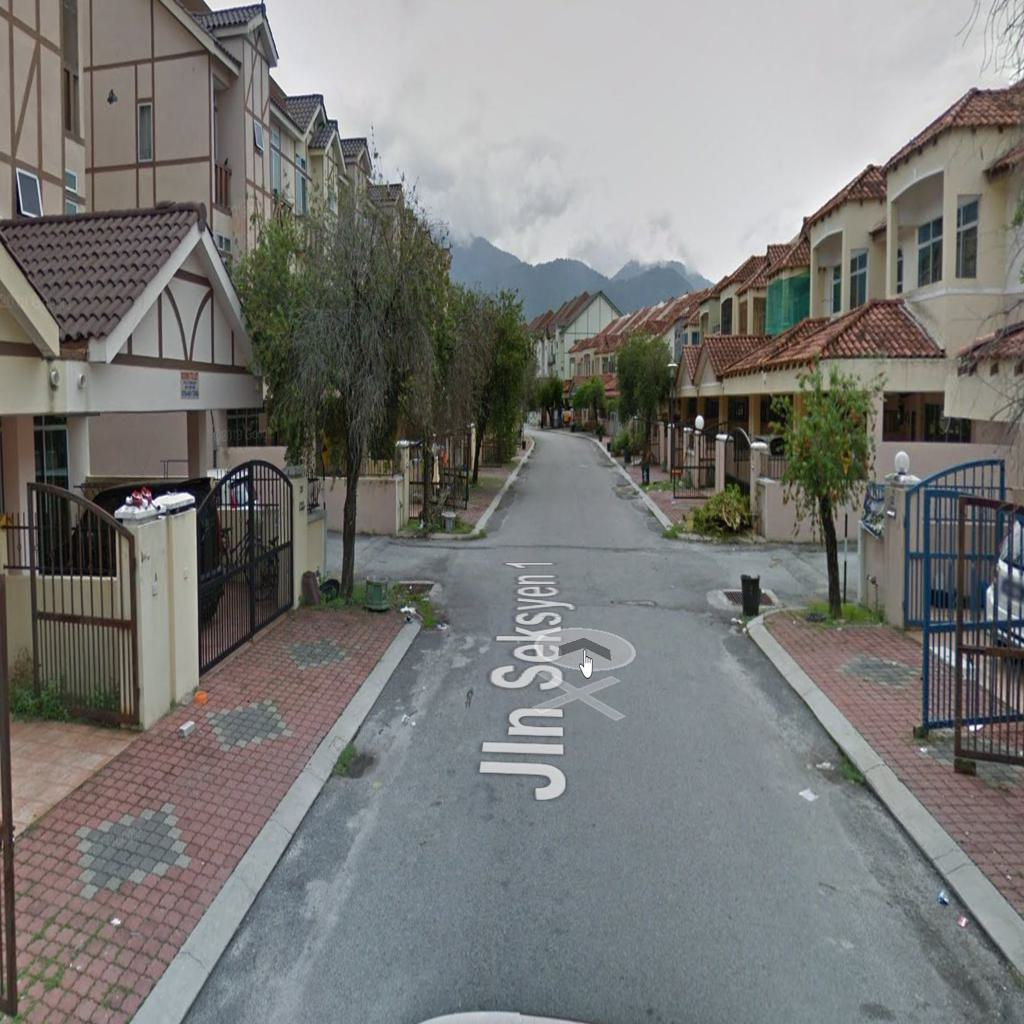Junction: (651, 511, 854, 645), (323, 506, 508, 627)
